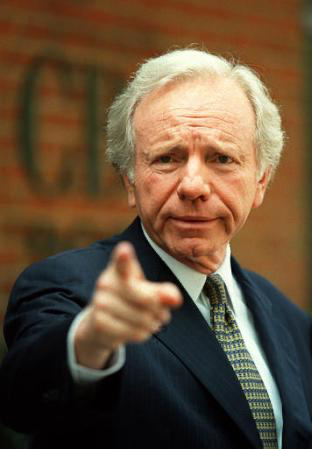Face: (124, 119, 267, 262)
